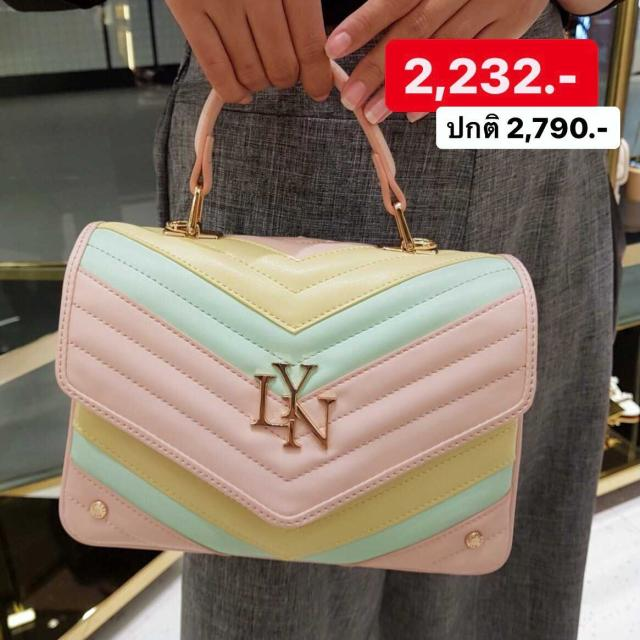Handbag: (56, 49, 538, 578)
